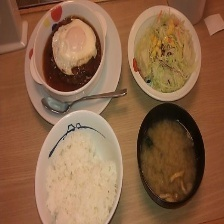rice: (39, 135, 119, 224)
